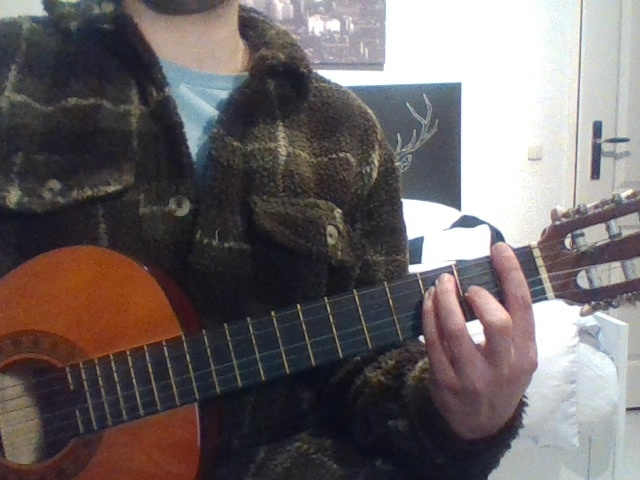F: (398, 221, 582, 452)
